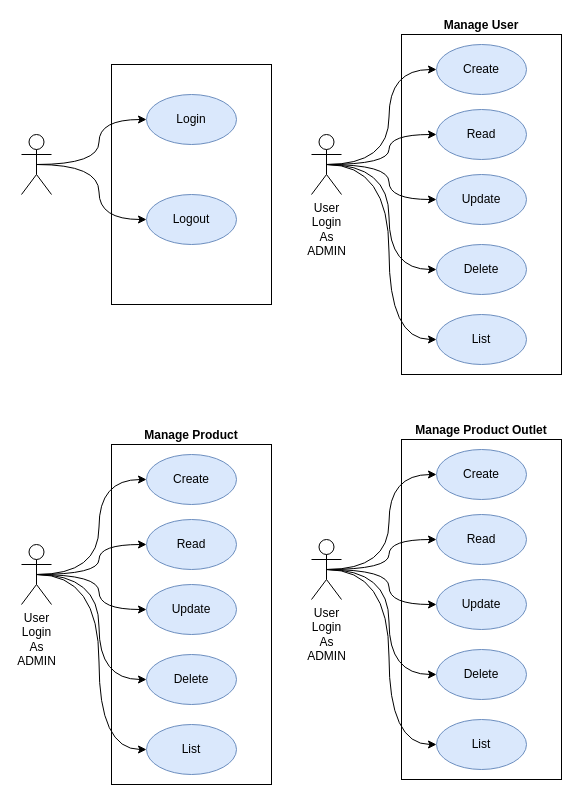
This 579x802 diagram has some shape labels left out. Here are the shapes that lost their labels. From the top down, the box of each, then its label:
(20, 134, 52, 194): User
(110, 64, 272, 304): Authentication
